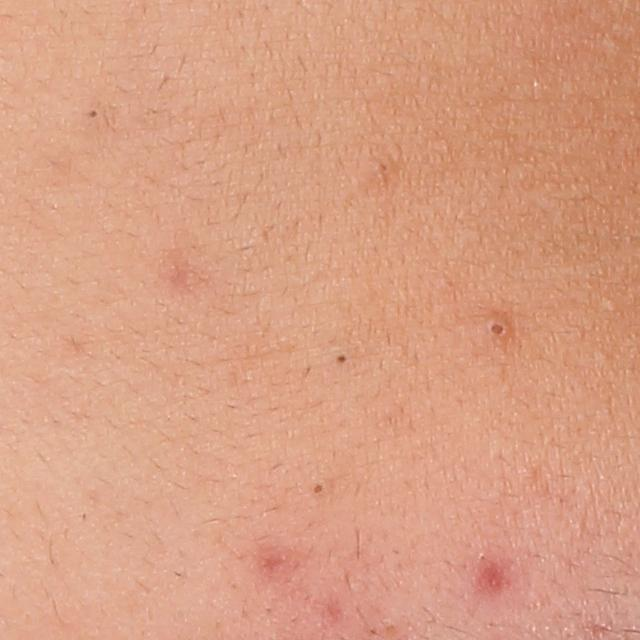comedo: (486, 315, 508, 340), (310, 479, 332, 502), (333, 349, 354, 369), (86, 101, 104, 124)
